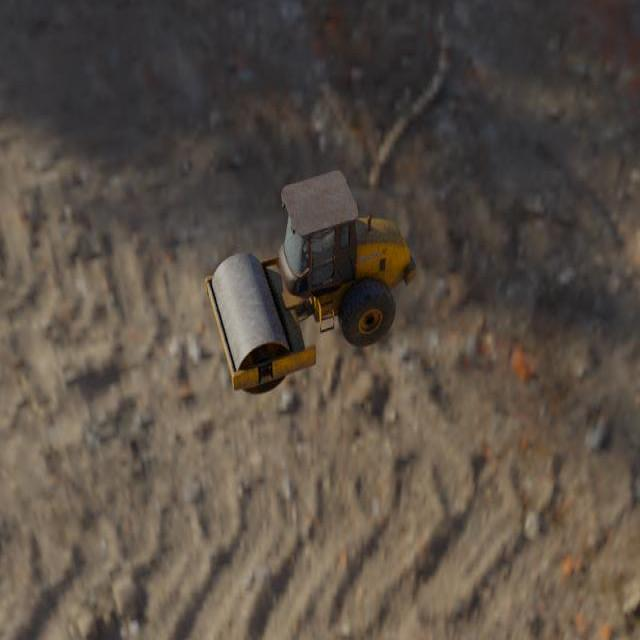Roller: (204, 169, 416, 395)
